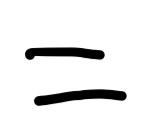eqv: (17, 44, 130, 107)
